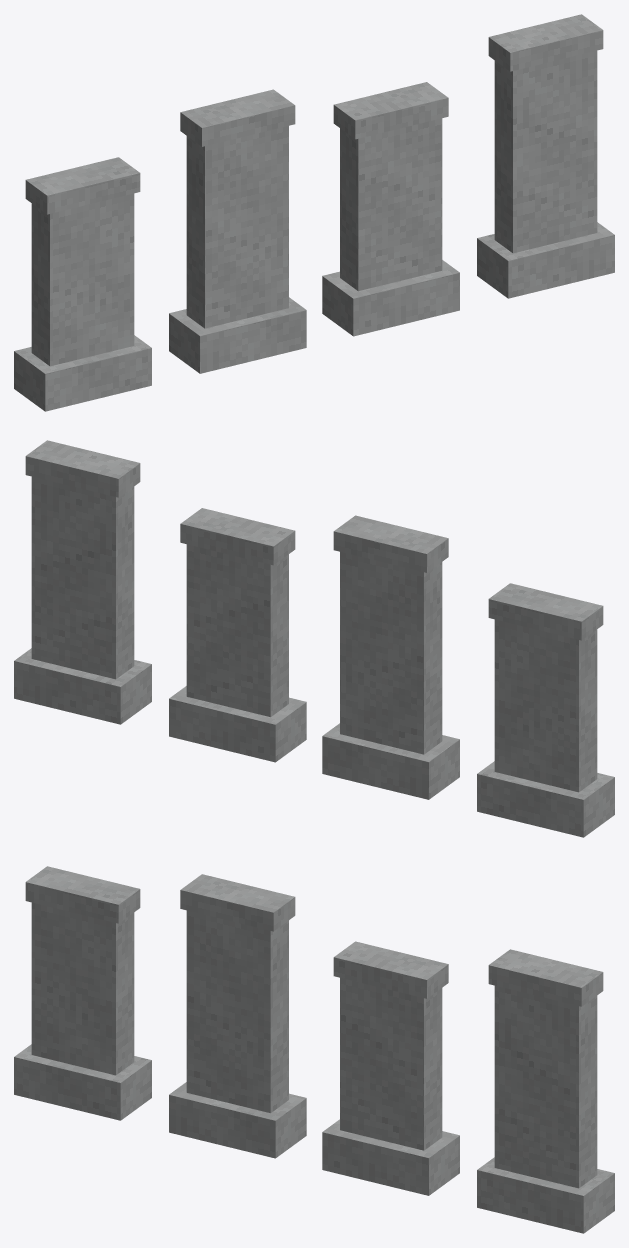
File: level_blockout_cemetery_headstone_row.glb
3 views of the same model, one above another, from view 1: azimuth 30°, elevation 25°; view 2: azimuth 150°, elevation 25°; view 3: azimuth 330°, elevation 25° (orthographic).
Visible parts, largest first — view 1: level_blockout_cemetery_headstone_row; view 2: level_blockout_cemetery_headstone_row; view 3: level_blockout_cemetery_headstone_row.
Part boxes in pixels (left/top/right/bottom): level_blockout_cemetery_headstone_row: left=14, top=14, right=614, bottom=411; level_blockout_cemetery_headstone_row: left=14, top=440, right=614, bottom=837; level_blockout_cemetery_headstone_row: left=14, top=866, right=614, bottom=1233.
Size of the model in its own units: 3.79 by 1.53 by 0.36.
Materials: 1 (1 with a texture image).
